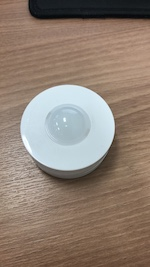bulb: (20, 84, 115, 180)
